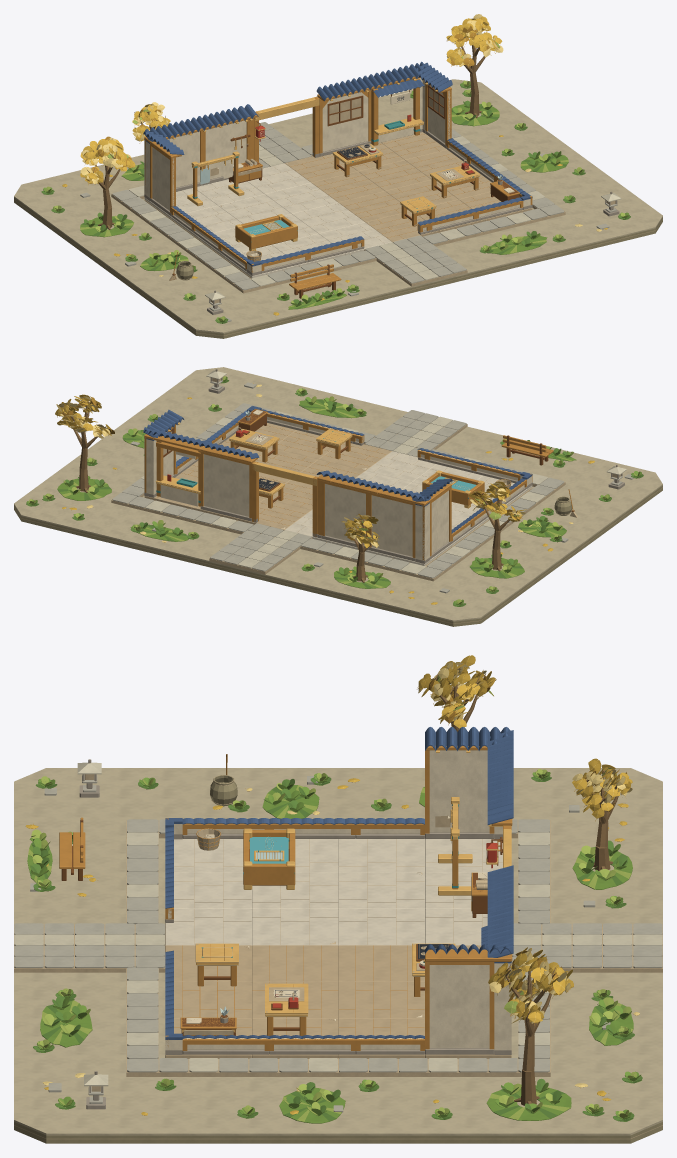
The model's file is 首关_开张第一单_v03_20261110.glb.
3 renders of one model, top to bottom at view 1: azimuth 30°, elevation 25°; view 2: azimuth 150°, elevation 25°; view 3: azimuth 270°, elevation 25°, orthographic. The views are drawn at different scales.
Parts seen in each view (by area): view 1: exterior_ground_paper_layer_3, exterior_path_perimeter_slabs_paving, exterior_ground_paper_layer_0, exterior_path_front_entry_slabs_paving, exterior_ground_paper_layer_2, exterior_path_perimeter_slabs_paving_light, wall_back_03_paper_panel, wall_back_01_paper_panel, exterior_path_perimeter_continuous_paper_underlay, env_floor_courtyard_02_02_slab, env_floor_courtyard_02_01_slab, env_floor_workshop_04_02_slab (+46 smaller); view 2: exterior_ground_paper_layer_3, exterior_path_perimeter_slabs_paving, wall_back_03_paper_panel, exterior_ground_paper_layer_0, wall_back_00_paper_panel, exterior_path_rear_entry_slabs_paving, exterior_path_front_entry_slabs_paving, wall_back_01_paper_panel, exterior_ground_paper_layer_2, exterior_path_perimeter_slabs_paving_light, exterior_path_perimeter_continuous_paper_underlay, env_floor_courtyard_02_00_slab (+36 smaller); view 3: exterior_ground_paper_layer_3, exterior_path_perimeter_slabs_paving, exterior_path_front_entry_slabs_paving, wall_right_back_paper_panel, exterior_path_rear_entry_slabs_paving, wall_left_back_paper_panel, exterior_path_perimeter_slabs_paving_light, exterior_ground_paper_layer_0, env_floor_courtyard_01_02_slab, env_floor_workshop_03_01_slab, env_floor_courtyard_02_01_slab, exterior_path_perimeter_continuous_paper_underlay (+51 smaller).
Part boxes in pixels (x1,y1,x2,y2): exterior_ground_paper_layer_3: (14, 79, 662, 333); exterior_path_perimeter_slabs_paving: (112, 128, 564, 290); exterior_ground_paper_layer_0: (14, 200, 662, 338); exterior_path_front_entry_slabs_paving: (365, 235, 466, 283); exterior_ground_paper_layer_2: (14, 198, 662, 335); exterior_path_perimeter_slabs_paving_light: (129, 136, 544, 286); wall_back_03_paper_panel: (322, 92, 368, 151); wall_back_01_paper_panel: (205, 120, 246, 179); exterior_path_perimeter_continuous_paper_underlay: (111, 155, 565, 293); env_floor_courtyard_02_02_slab: (265, 183, 337, 213); env_floor_courtyard_02_01_slab: (292, 202, 364, 233); env_floor_workshop_04_02_slab: (358, 160, 431, 191); exterior_ground_paper_layer_3: (14, 367, 662, 621); exterior_path_perimeter_slabs_paving: (112, 403, 564, 578); wall_back_03_paper_panel: (203, 454, 249, 516); exterior_ground_paper_layer_0: (14, 488, 662, 626); wall_back_00_paper_panel: (371, 495, 412, 556); exterior_path_rear_entry_slabs_paving: (210, 523, 311, 571); exterior_path_front_entry_slabs_paving: (365, 410, 466, 456); wall_back_01_paper_panel: (325, 484, 365, 544); exterior_ground_paper_layer_2: (14, 485, 662, 623); exterior_path_perimeter_slabs_paving_light: (141, 411, 547, 574); exterior_path_perimeter_continuous_paper_underlay: (111, 410, 565, 581); env_floor_courtyard_02_00_slab: (366, 451, 436, 481); exterior_ground_paper_layer_3: (14, 768, 662, 1135); exterior_path_perimeter_slabs_paving: (127, 819, 549, 1072); exterior_path_front_entry_slabs_paving: (14, 923, 164, 967); wall_right_back_paper_panel: (429, 965, 489, 1048); exterior_path_rear_entry_slabs_paving: (512, 923, 662, 967); wall_left_back_paper_panel: (429, 750, 489, 832); exterior_path_perimeter_slabs_paving_light: (127, 832, 549, 1072); exterior_ground_paper_layer_0: (14, 1125, 662, 1143); env_floor_courtyard_01_02_slab: (338, 872, 424, 908); env_floor_workshop_03_01_slab: (252, 945, 338, 982); env_floor_courtyard_02_01_slab: (252, 909, 338, 945); exterior_path_perimeter_continuous_paper_underlay: (126, 820, 550, 1076).
Bounding box in the file's own units: 20 × 4.13 × 15.
Materials: 26 (23 with a texture image).
